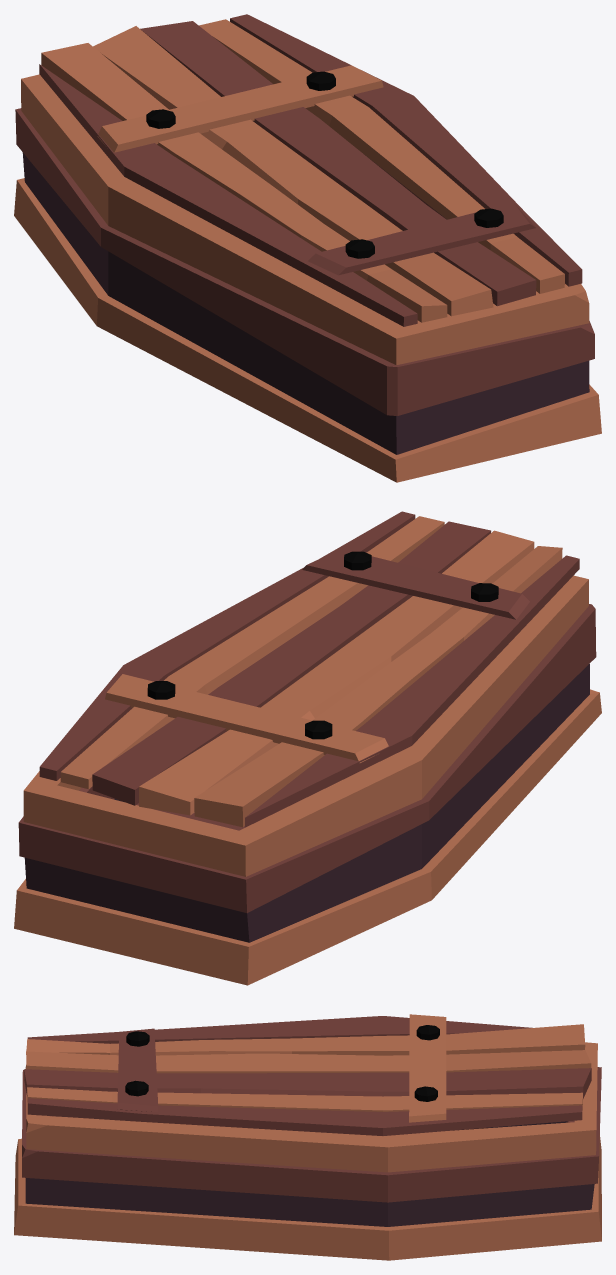
Rendered from Casket 04.fbx.
3 renders of one model, top to bottom at view 1: azimuth 30°, elevation 25°; view 2: azimuth 150°, elevation 25°; view 3: azimuth 270°, elevation 25°, orthographic. The views are drawn at different scales.
Visible parts, largest first — view 1: Casket 04, Casket 04 Lid; view 2: Casket 04, Casket 04 Lid; view 3: Casket 04, Casket 04 Lid.
Part boxes in pixels (left/top/right/bottom): Casket 04: left=14, top=74, right=601, bottom=482; Casket 04 Lid: left=39, top=14, right=582, bottom=326; Casket 04: left=14, top=575, right=601, bottom=985; Casket 04 Lid: left=39, top=511, right=579, bottom=827; Casket 04: left=14, top=1042, right=601, bottom=1260; Casket 04 Lid: left=24, top=1014, right=591, bottom=1135.
Size of the model in its own units: 138 by 69.31 by 265.
